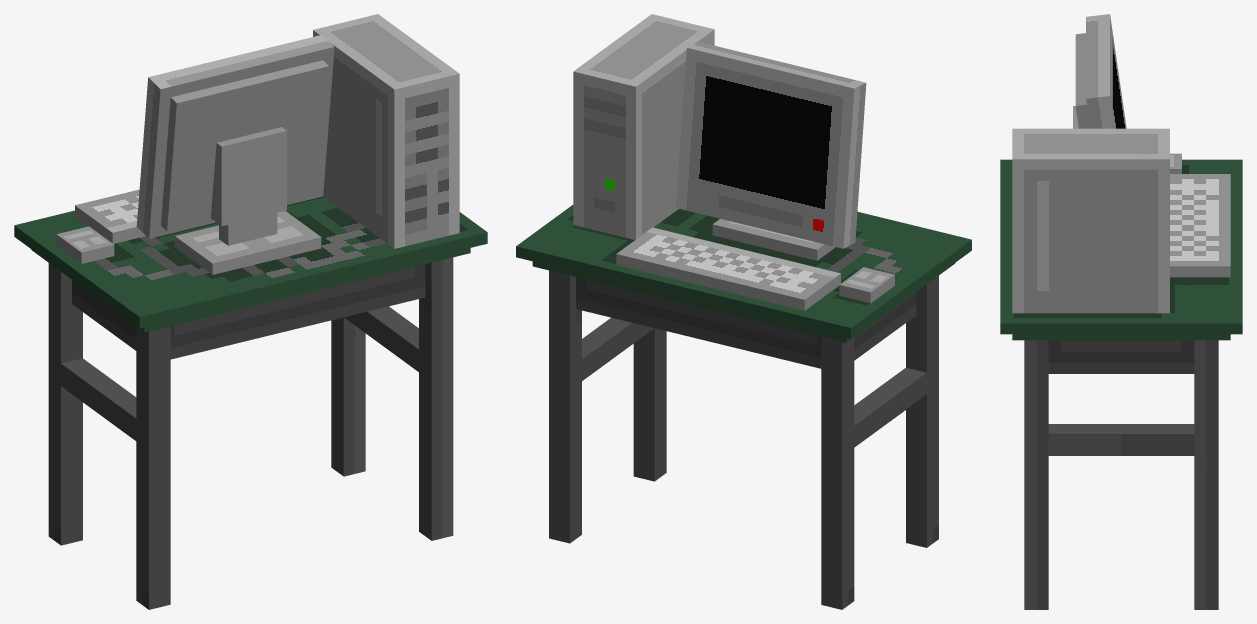
The model's file is computer-1.gltf.
3 views of the same model, side by side, from view 1: azimuth 30°, elevation 25°; view 2: azimuth 150°, elevation 25°; view 3: azimuth 270°, elevation 25° (orthographic). The views are drawn at different scales.
Visible parts, largest first — view 1: group6, group3, group, group4, group5, group2; view 2: group3, group, group6, group4, group5, group2; view 3: group3, group6, group5, group.
Boxes of the visible parts, <box> form: group6: <box>14,196,487,359</box>; group3: <box>56,14,459,263</box>; group: <box>136,35,334,238</box>; group4: <box>48,263,170,609</box>; group5: <box>331,257,453,540</box>; group2: <box>175,127,321,274</box>; group3: <box>573,14,894,310</box>; group: <box>676,42,866,248</box>; group6: <box>516,205,971,368</box>; group4: <box>821,275,938,609</box>; group5: <box>549,270,666,543</box>; group2: <box>712,219,835,260</box>; group3: <box>1012,128,1230,313</box>; group6: <box>1000,159,1242,373</box>; group5: <box>1024,340,1218,609</box>; group: <box>1075,14,1126,128</box>.
Bounding box in the file's own units: 2 × 2.69 × 1.25.
5 materials, 5 textured.
